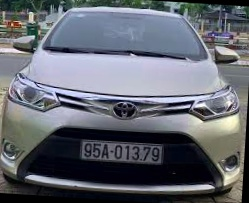Bien-so: (79, 139, 165, 166)
